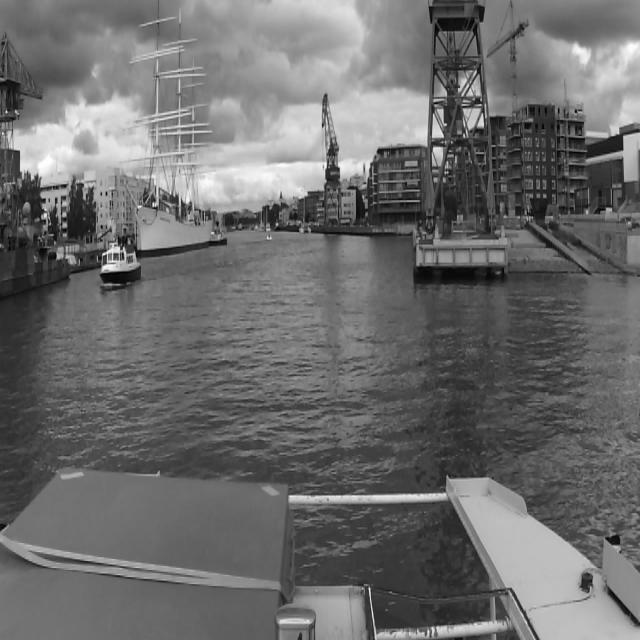ship: (132, 0, 211, 246), (101, 243, 141, 284), (297, 182, 311, 236), (213, 230, 227, 247), (266, 231, 272, 241)
